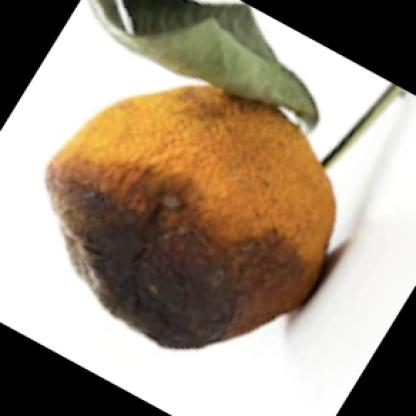rotten: (46, 82, 336, 353)
